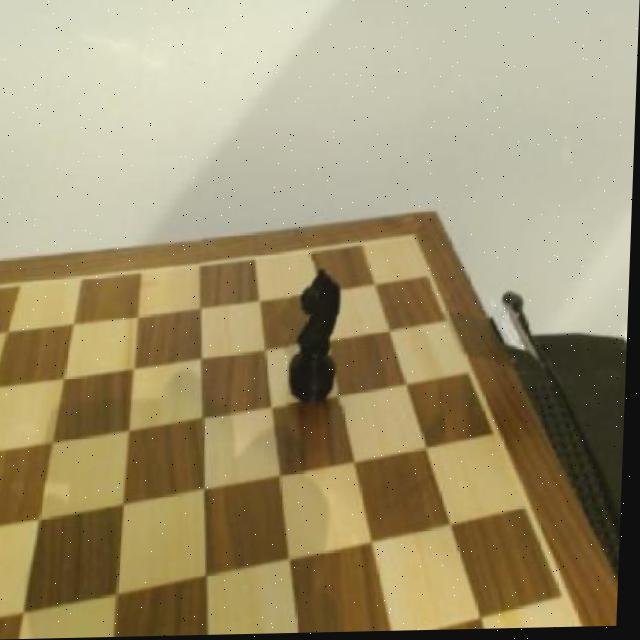black-king: (289, 263, 354, 408)
